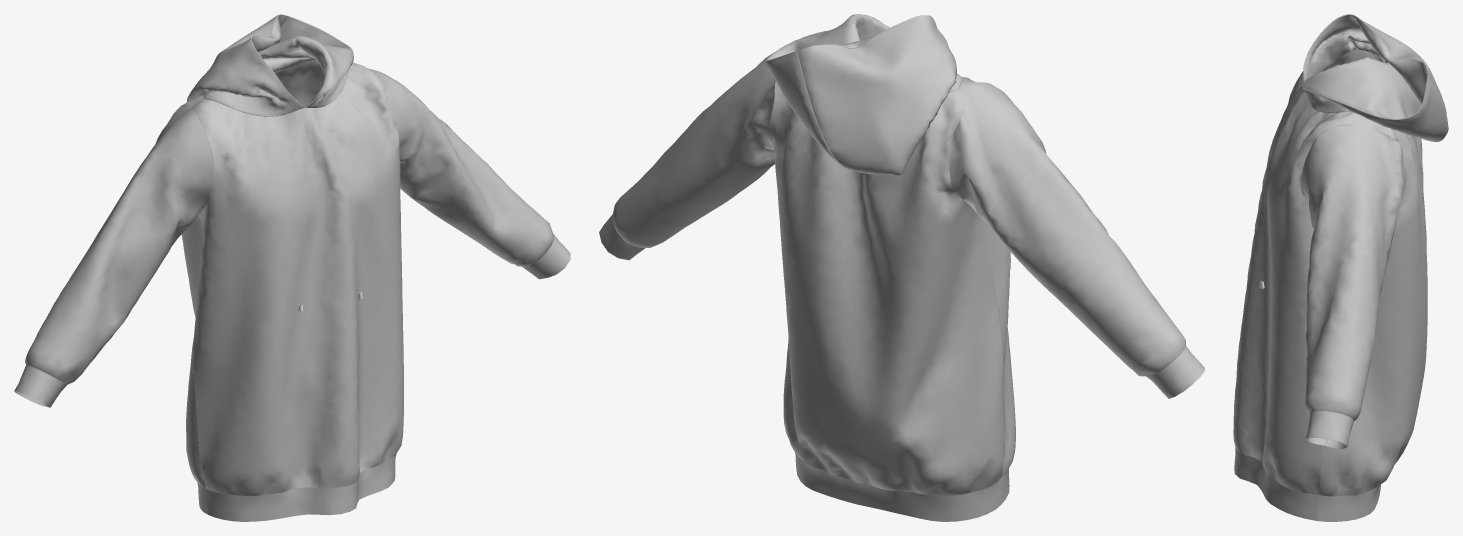
The model's file is FLG_11_05_2.fbx.
3 renders of one model, left to right at view 1: azimuth 30°, elevation 25°; view 2: azimuth 150°, elevation 25°; view 3: azimuth 270°, elevation 25°, orthographic. The views are drawn at different scales.
Parts seen in each view (by area): view 1: FLG_11_05_2; view 2: FLG_11_05_2; view 3: FLG_11_05_2.
Part boxes in pixels (box(x1,y1,x2,y2)): FLG_11_05_2: box(14, 14, 570, 521); FLG_11_05_2: box(599, 14, 1204, 521); FLG_11_05_2: box(1233, 14, 1448, 521).
Bounding box in the file's own units: 110 × 86.83 × 37.37.
